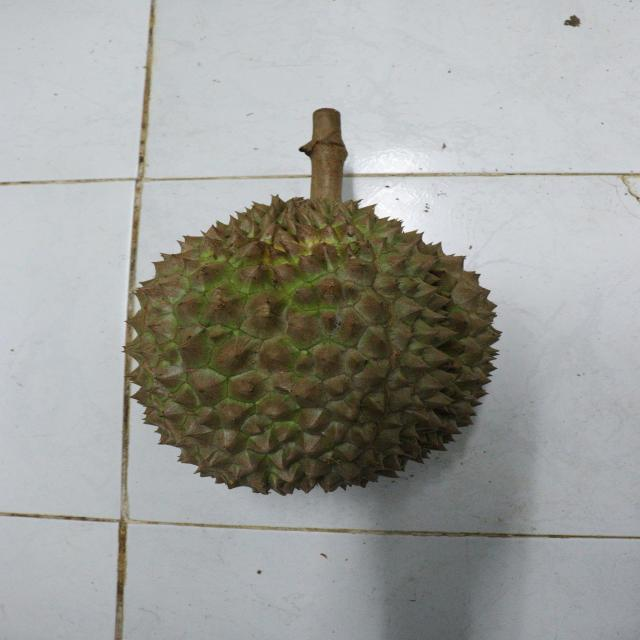mature: (117, 196, 508, 496)
